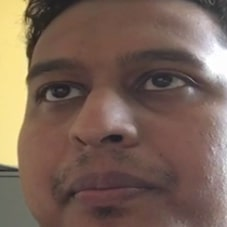awake: (18, 41, 218, 219)
